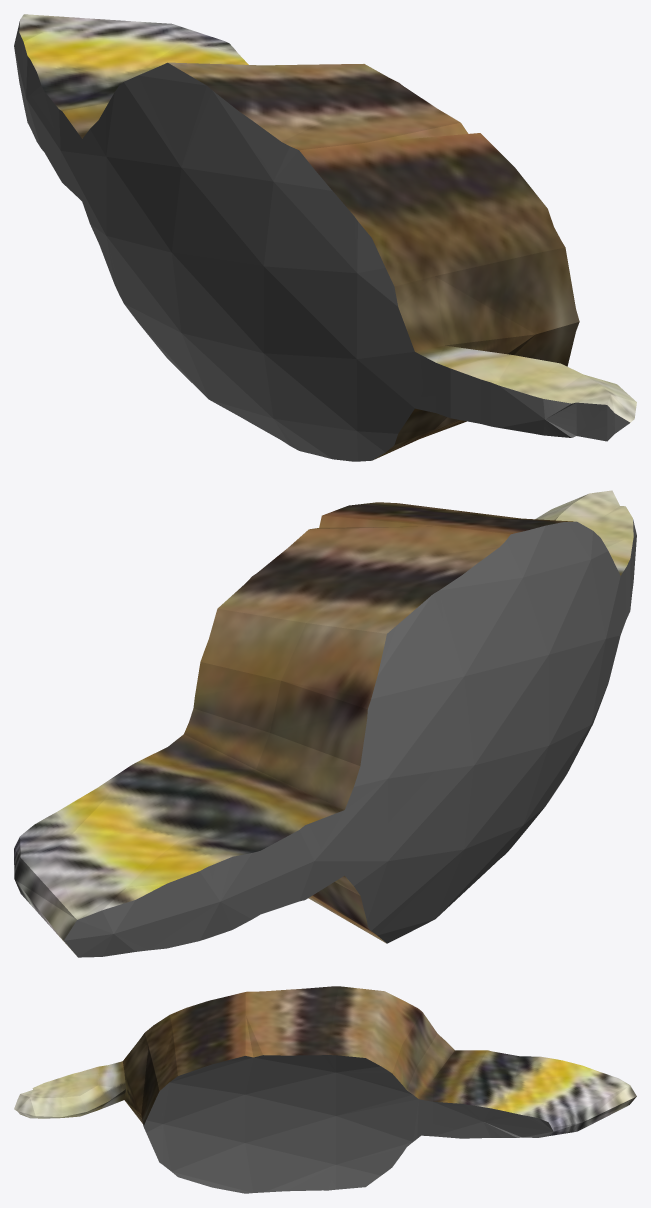
3 views of the same model, one above another, from view 1: azimuth 30°, elevation 25°; view 2: azimuth 150°, elevation 25°; view 3: azimuth 270°, elevation 25° (orthographic). The views are drawn at different scales.
Visible parts, largest first — view 1: link_10_visual; view 2: link_10_visual; view 3: link_10_visual.
Boxes of the visible parts, bbox=[...] form: link_10_visual: bbox=[14, 14, 636, 461]; link_10_visual: bbox=[14, 490, 636, 957]; link_10_visual: bbox=[14, 986, 636, 1193].
Bounding box in the file's own units: 0.000967 × 0.00118 × 0.00382.
Materials: 2 (2 with a texture image).
